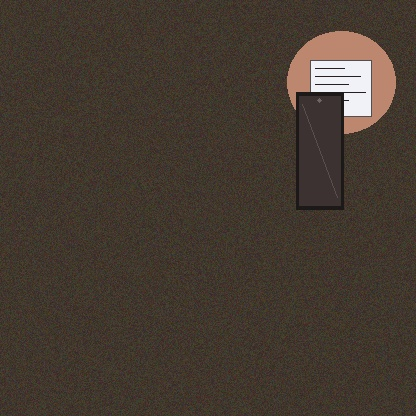cell_phone: (296, 92, 343, 209)
exam_chit: (310, 60, 371, 116)
